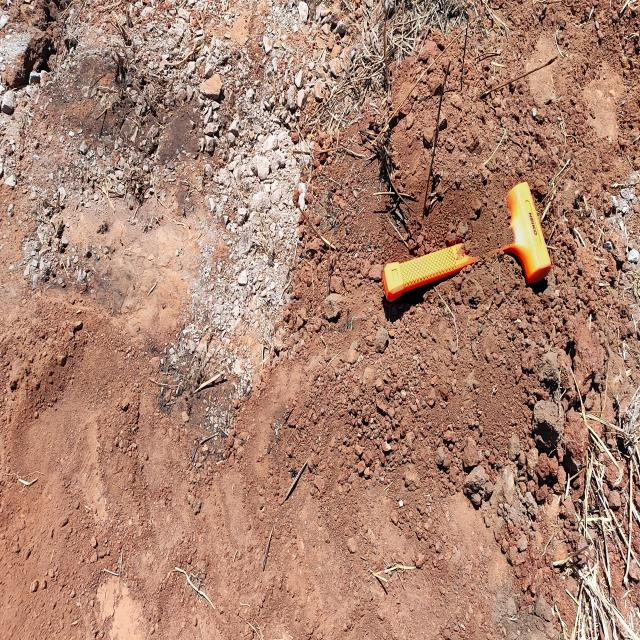Orange_hammer: (381, 180, 552, 304)
